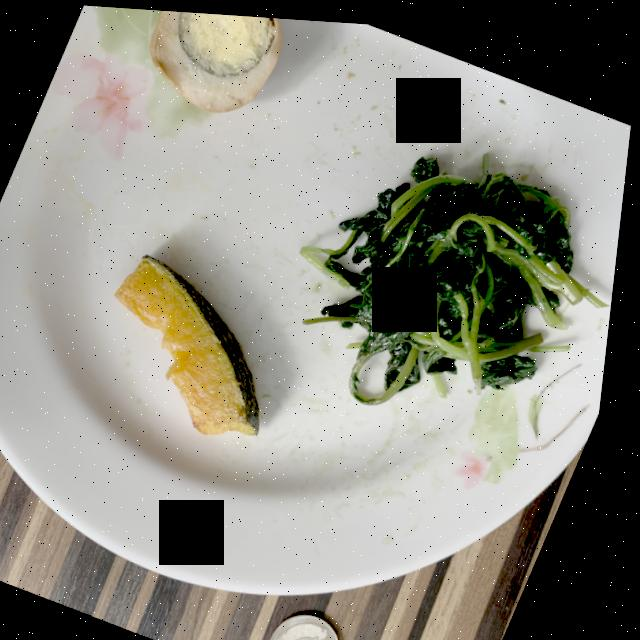coin: (283, 609, 353, 640)
pumpkin: (121, 252, 268, 431)
soy egg: (150, 9, 282, 109)
sweet potato leaves: (305, 146, 614, 400)
